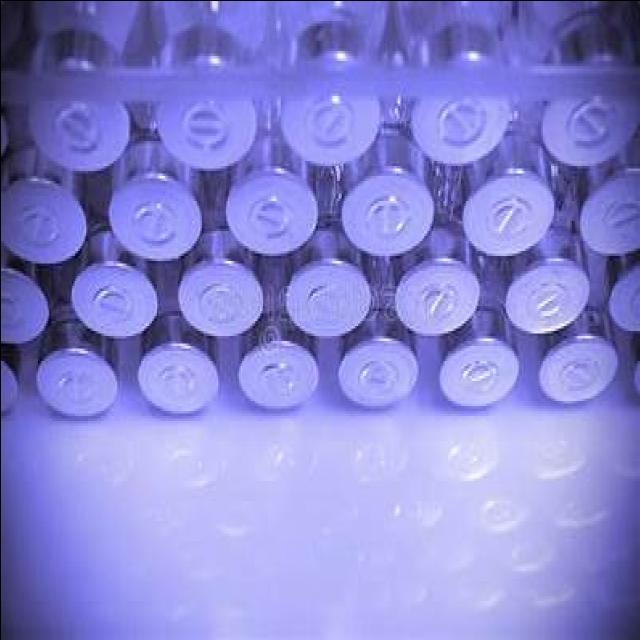vial: (0, 169, 81, 270), (43, 334, 129, 424), (491, 262, 587, 341), (119, 175, 209, 257), (157, 95, 255, 160), (414, 88, 506, 156), (389, 262, 476, 330), (545, 94, 640, 155), (43, 96, 119, 170), (190, 260, 262, 336), (292, 96, 380, 158), (244, 176, 318, 248), (347, 175, 419, 247), (80, 256, 152, 326), (240, 341, 316, 406), (338, 338, 412, 404), (582, 173, 640, 257), (140, 341, 212, 406), (466, 184, 538, 242), (549, 338, 611, 402), (292, 274, 364, 328), (452, 343, 514, 397), (0, 260, 39, 334), (605, 261, 640, 327), (0, 355, 24, 417), (0, 91, 9, 146), (632, 354, 640, 398)
